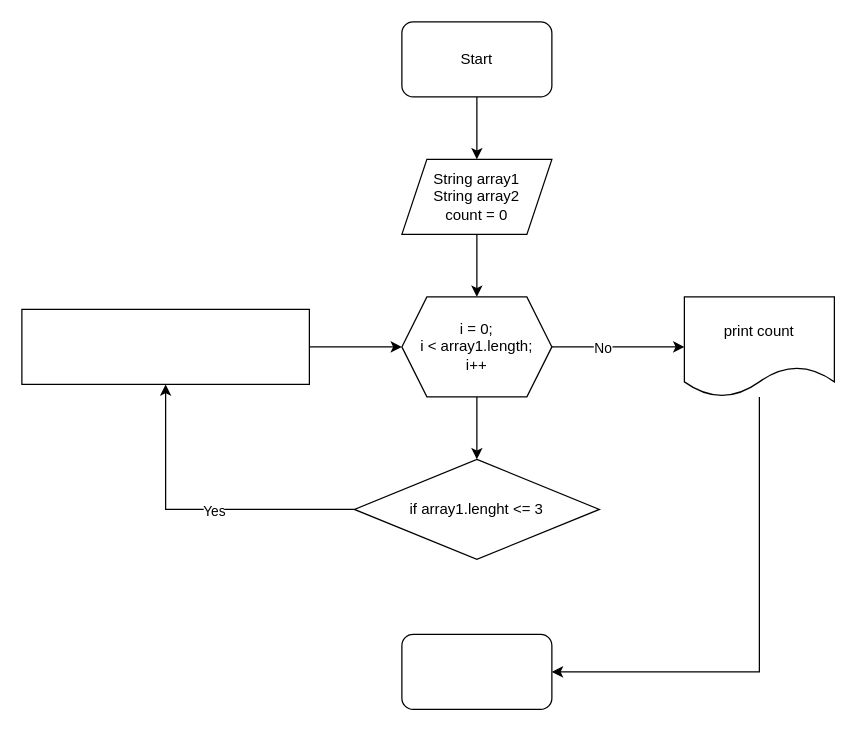
The diagram is 856 pixels wide and 731 high, and some of its shapes have lost their labels. Here are the shapes that lost their labels. From the top down, the centre of each, then its label:
At (165,346): "array2[count] = array1[i]; count++;".
At (476,671): "End".
